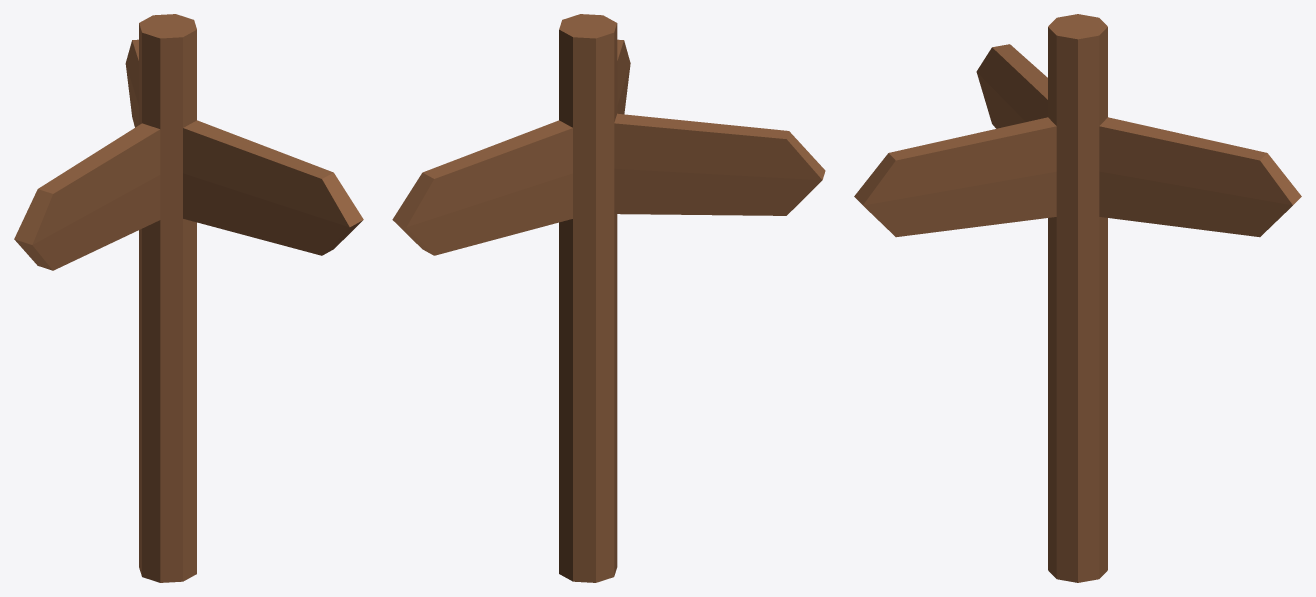
Rendered from Sign.fbx.
The picture shows the model from 3 angles, left to right: view 1: azimuth 30°, elevation 25°; view 2: azimuth 150°, elevation 25°; view 3: azimuth 270°, elevation 25°; orthographic projection.
Parts seen in each view (by area): view 1: Cylinder; view 2: Cylinder; view 3: Cylinder.
Part boxes in pixels (box(x1,y1,x2,y2)): Cylinder: box(14, 14, 363, 582); Cylinder: box(392, 14, 825, 582); Cylinder: box(854, 14, 1301, 582).
Size of the model in its own units: 2.17 by 4 by 2.99.
